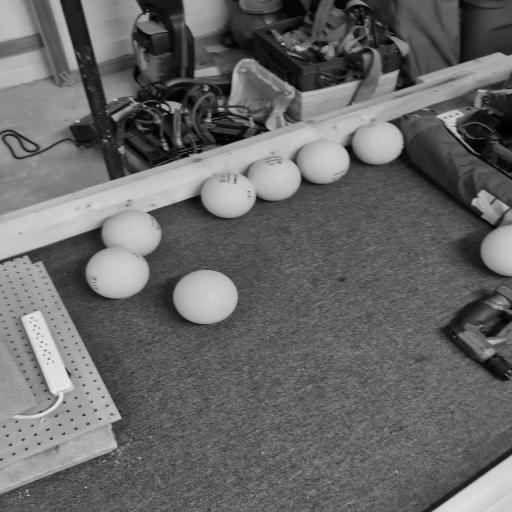fuel: (173, 270, 238, 324), (86, 247, 149, 299), (102, 210, 161, 256), (201, 173, 255, 218), (247, 157, 301, 201), (297, 140, 349, 184), (352, 122, 404, 165), (481, 226, 511, 276)
